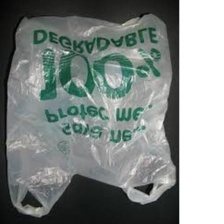plastic_bag: (0, 9, 179, 222)
